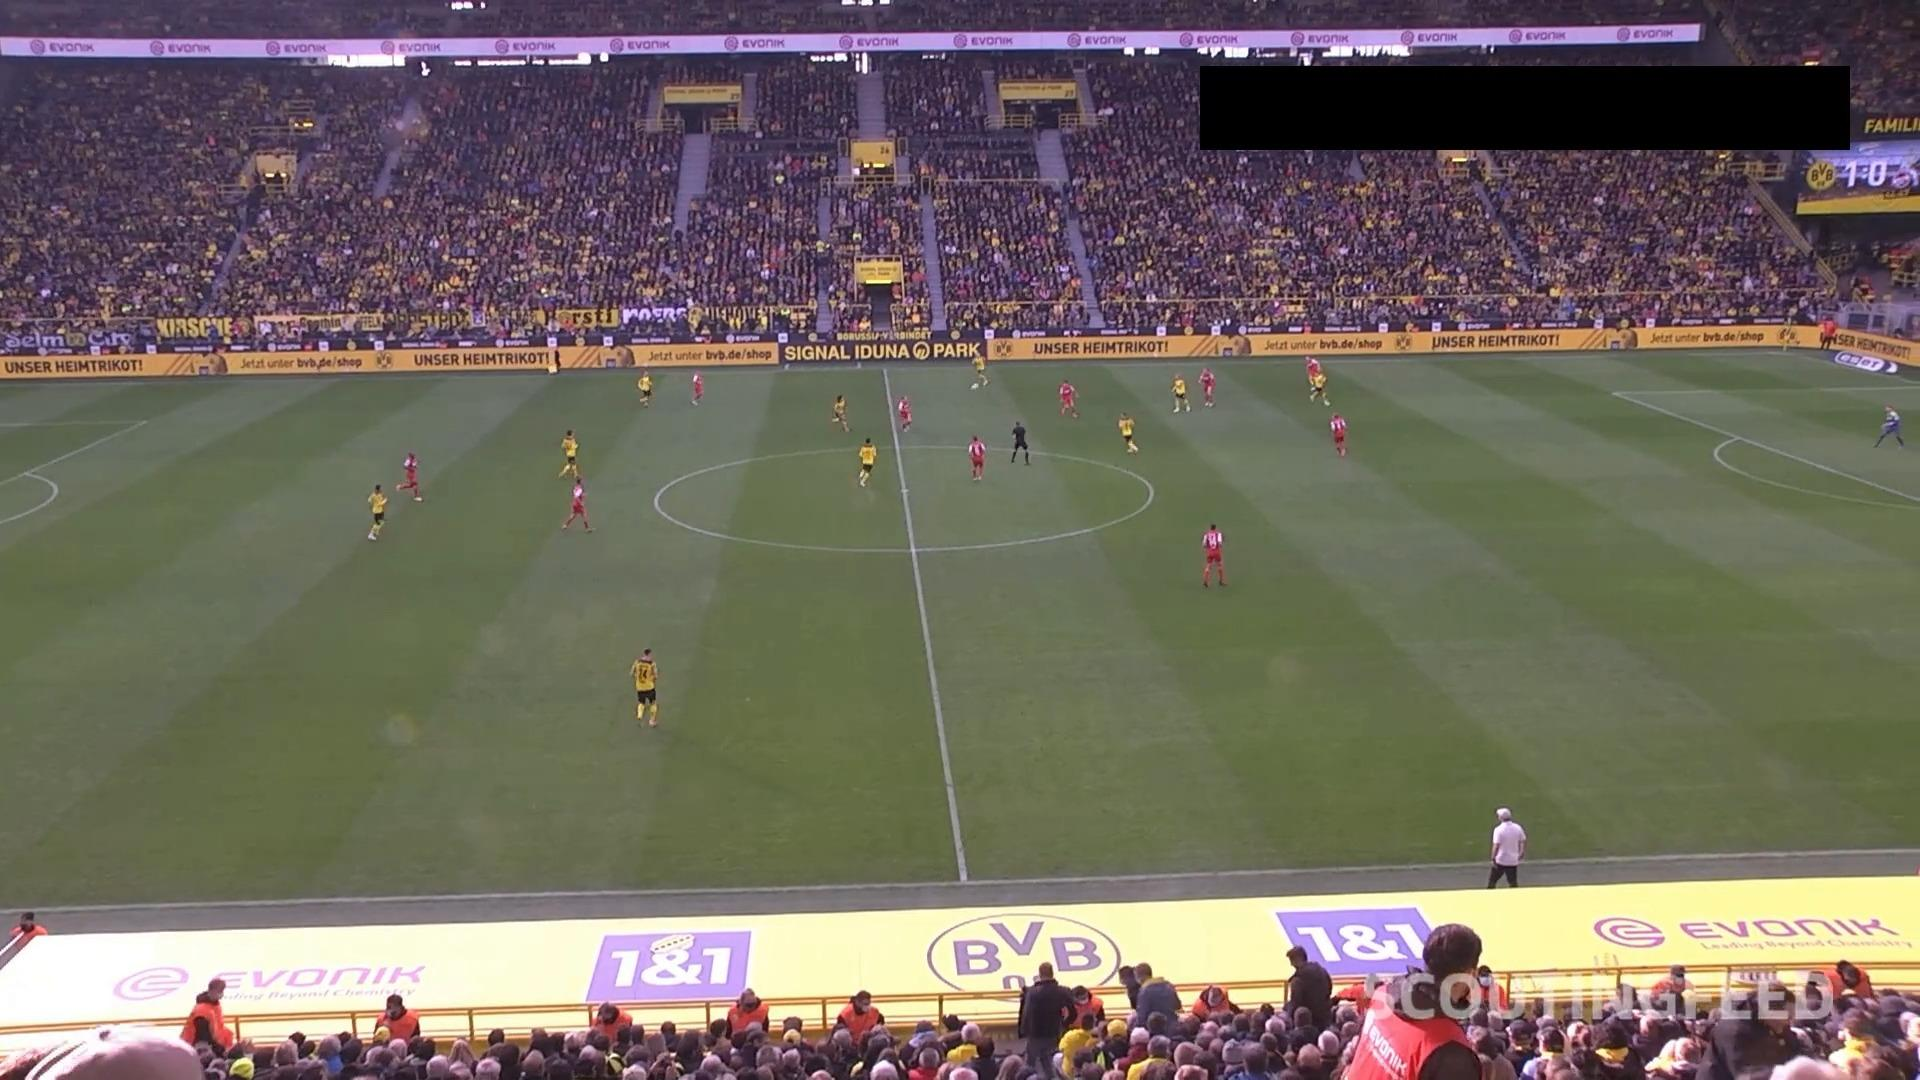ball: (969, 381, 980, 392)
